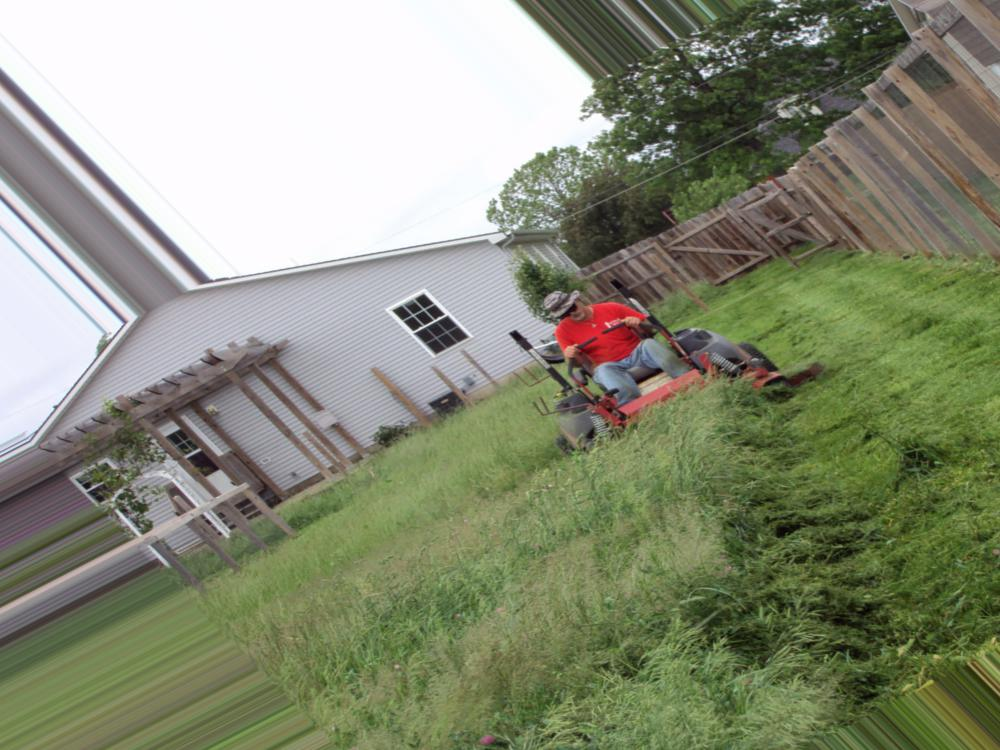patch: (638, 506, 729, 585), (746, 652, 822, 733), (522, 545, 605, 599), (237, 588, 337, 630), (425, 611, 512, 657), (323, 663, 403, 708), (437, 504, 499, 560), (342, 541, 430, 578), (520, 609, 575, 654)
